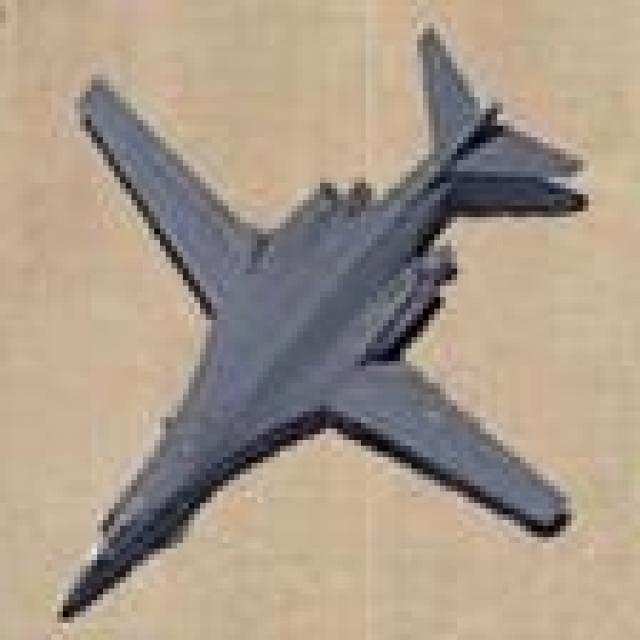B-1_TopDown: (51, 11, 588, 623)
